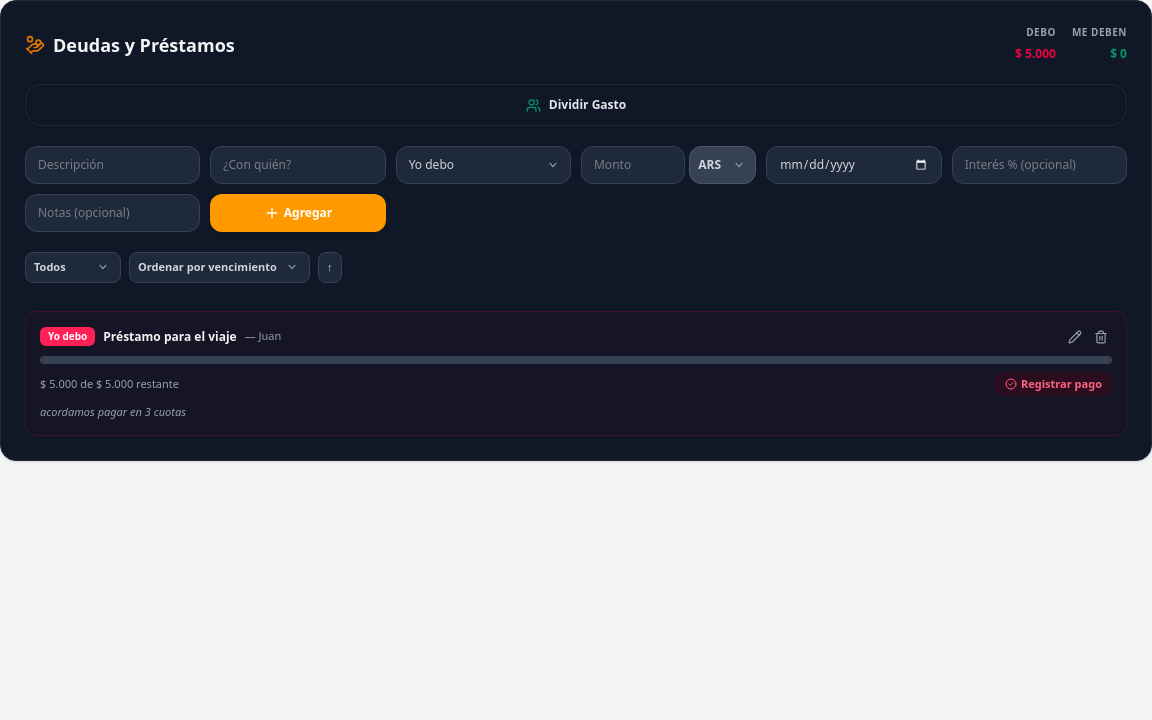
DebtsManager — editar deuda (Tanda 9) › abre el modal de edición con los datos de la deuda
Click the button titled "Editar".
click(1075, 336)  # box [1064,326,1086,348]
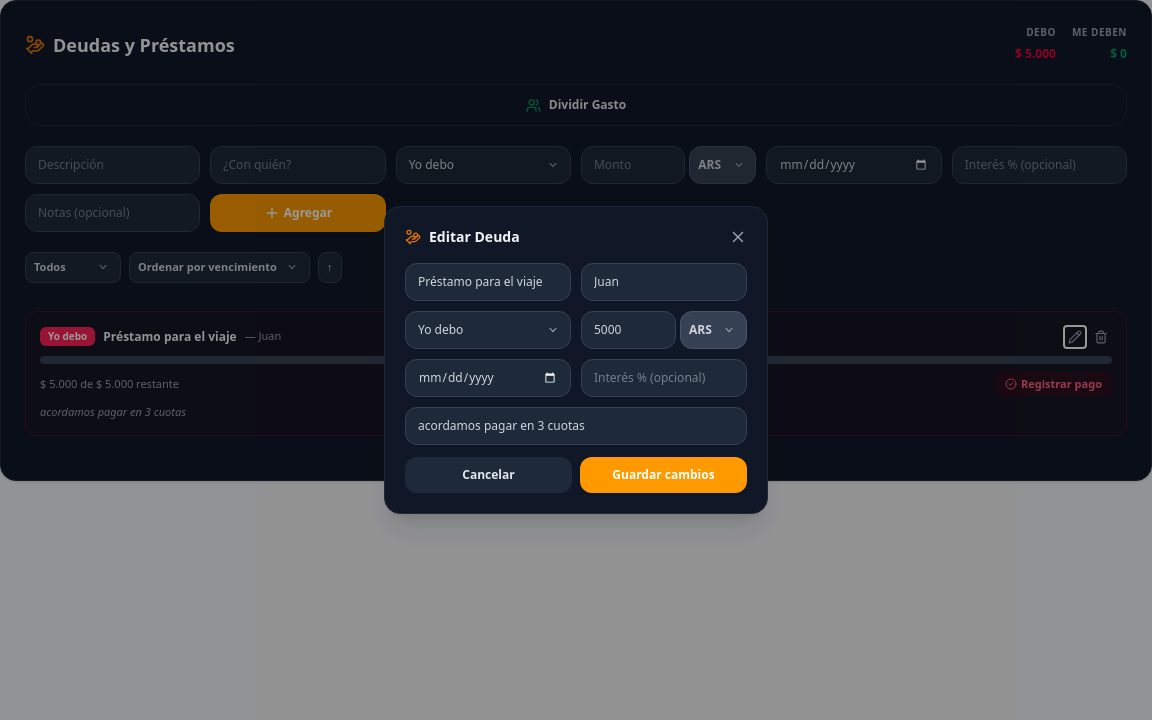
Result: the heading "Editar Deuda" is shown at [405,227,520,247]
Result: the field showing "Préstamo para el viaje" is shown at [405,263,571,301]
Result: the field showing "Juan" is shown at [581,263,747,301]
